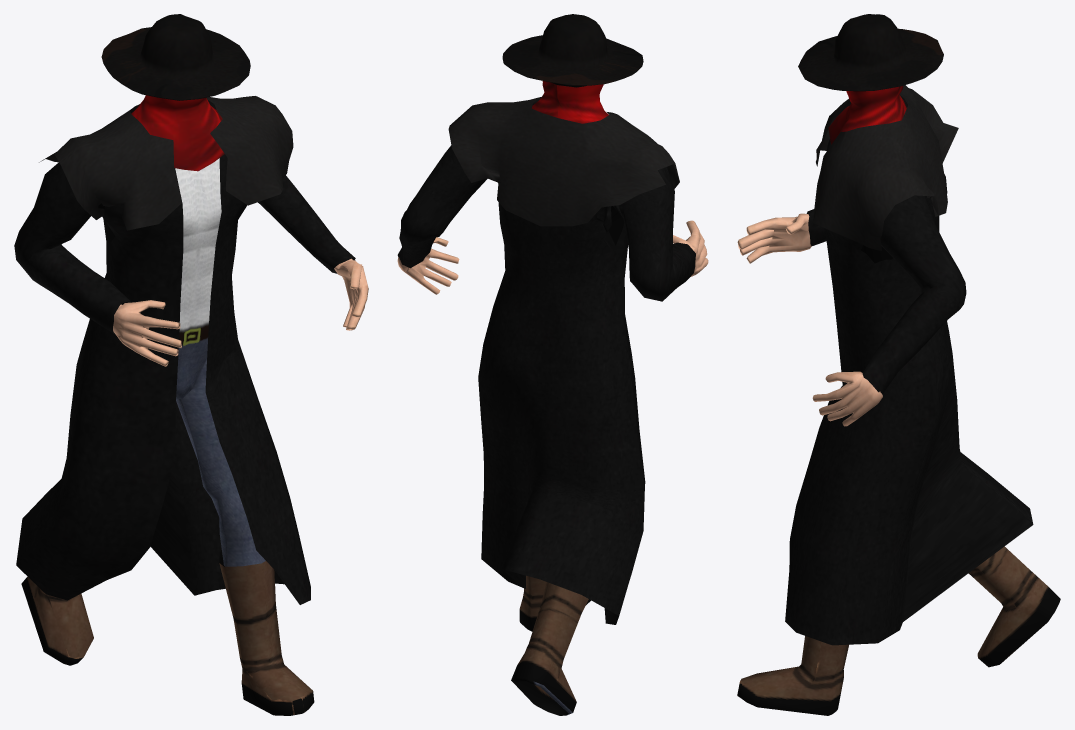
3 views of the same model, side by side, from view 1: azimuth 30°, elevation 25°; view 2: azimuth 150°, elevation 25°; view 3: azimuth 270°, elevation 25° (orthographic). The views are drawn at different scales.
Parts seen in each view (by area): view 1: Undertaker_walk:Undertaker_4:Undertaker_4:Undertaker; view 2: Undertaker_walk:Undertaker_4:Undertaker_4:Undertaker; view 3: Undertaker_walk:Undertaker_4:Undertaker_4:Undertaker.
Part boxes in pixels (x1,y1,x2,y2): Undertaker_walk:Undertaker_4:Undertaker_4:Undertaker: [14, 14, 368, 715]; Undertaker_walk:Undertaker_4:Undertaker_4:Undertaker: [397, 14, 708, 715]; Undertaker_walk:Undertaker_4:Undertaker_4:Undertaker: [737, 14, 1060, 715].
Bounding box in the file's own units: 1.38 × 2.86 × 1.26.
Materials: 1 (1 with a texture image).
